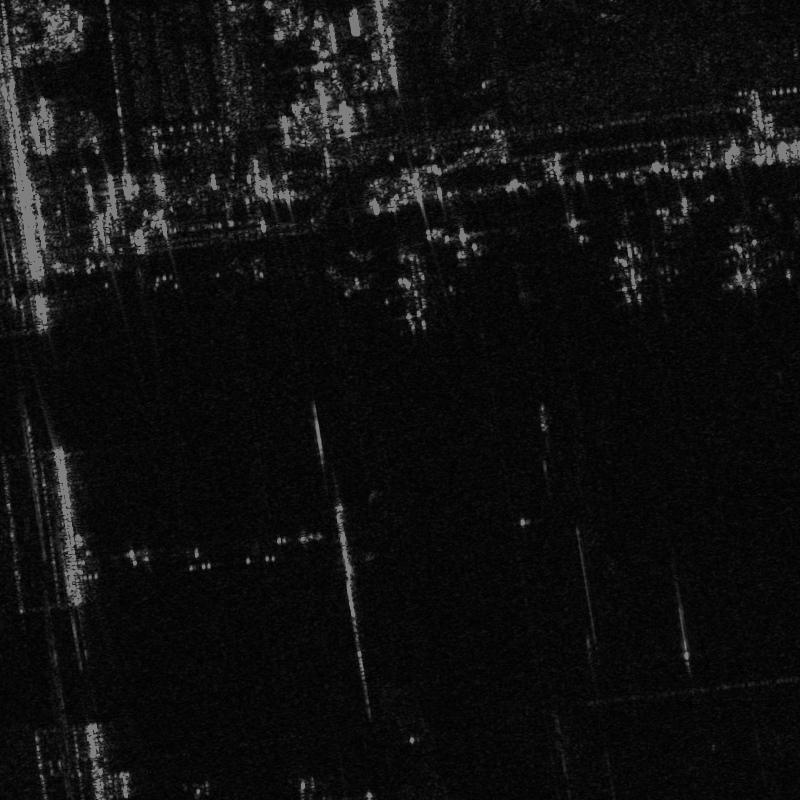Boeing787: (384, 251, 456, 334), (596, 232, 665, 309), (718, 226, 781, 294)
